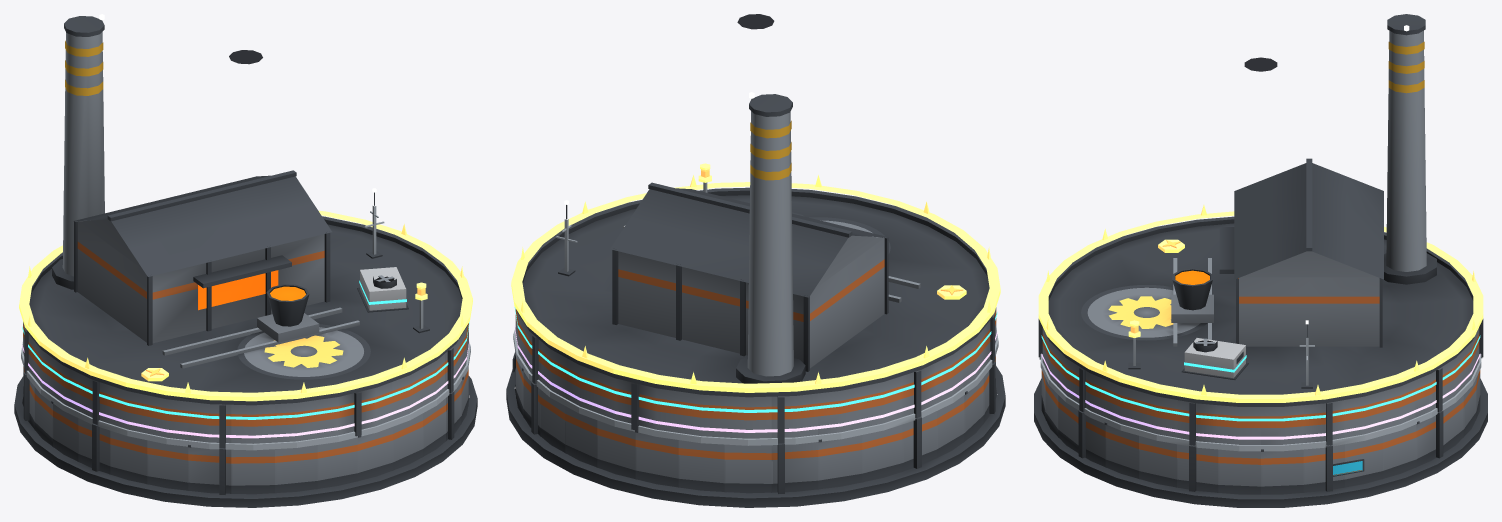
File: steel_mill_s.glb
3 renders of one model, left to right at view 1: azimuth 30°, elevation 25°; view 2: azimuth 150°, elevation 25°; view 3: azimuth 270°, elevation 25°, orthographic. The views are drawn at different scales.
Visible parts, largest first — view 1: Roof, Base, Wall_20, Wall_21, Wall_22, L3, Wall_19, Wall_23, Wall_18, Wall_24, Upper_20, Upper_21 (+22 smaller); view 2: Roof, Base, Wall_11, Wall_10, Wall_09, Wall_12, Wall_08, Wall_13, Wall_07, Upper_11, Upper_10, Upper_09 (+23 smaller); view 3: Roof, Base, L3, Wall_00, Wall_31, Wall_30, Wall_01, Wall_29, Upper_01, Upper_30, Wall_28, Wall_03 (+21 smaller).
Part boxes in pixels (left/top/right/bottom): Roof: left=26, top=14, right=467, bottom=405; Base: left=14, top=376, right=477, bottom=507; Wall_20: left=188, top=444, right=231, bottom=494; Wall_21: left=231, top=449, right=274, bottom=494; Wall_22: left=275, top=445, right=317, bottom=493; L3: left=357, top=267, right=408, bottom=312; Wall_19: left=147, top=440, right=188, bottom=490; Wall_23: left=317, top=437, right=357, bottom=488; Wall_18: left=110, top=430, right=147, bottom=484; Wall_24: left=357, top=427, right=392, bottom=481; Upper_20: left=188, top=402, right=231, bottom=448; Upper_21: left=231, top=404, right=274, bottom=443; Roof: left=516, top=14, right=992, bottom=397; Base: left=506, top=366, right=1005, bottom=507; Wall_11: left=771, top=442, right=818, bottom=493; Wall_10: left=724, top=444, right=771, bottom=493; Wall_09: left=678, top=440, right=724, bottom=491; Wall_12: left=818, top=435, right=862, bottom=489; Wall_08: left=635, top=430, right=678, bottom=487; Wall_13: left=862, top=424, right=902, bottom=482; Wall_07: left=597, top=420, right=635, bottom=479; Upper_11: left=771, top=393, right=817, bottom=443; Upper_10: left=724, top=396, right=771, bottom=438; Upper_09: left=679, top=391, right=724, bottom=437; Roof: left=1047, top=14, right=1474, bottom=406; Base: left=1034, top=378, right=1487, bottom=507; L3: left=1181, top=338, right=1248, bottom=379; Wall_00: left=1261, top=449, right=1303, bottom=494; Wall_31: left=1218, top=449, right=1260, bottom=494; Wall_30: left=1177, top=444, right=1218, bottom=492; Wall_01: left=1303, top=444, right=1344, bottom=492; Wall_29: left=1139, top=436, right=1176, bottom=487; Upper_01: left=1303, top=400, right=1344, bottom=445; Upper_30: left=1177, top=400, right=1218, bottom=445; Wall_28: left=1104, top=422, right=1138, bottom=478; Wall_03: left=1383, top=424, right=1416, bottom=478.
Size of the model in its own units: 11.74 by 10.09 by 11.74.
